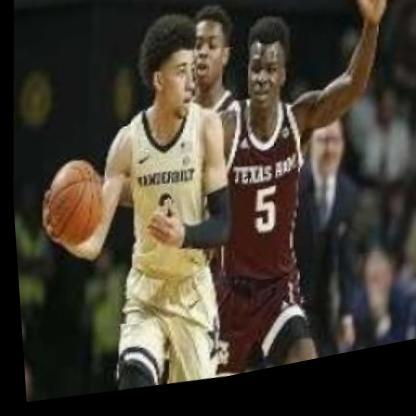basketball: (33, 143, 111, 266)
